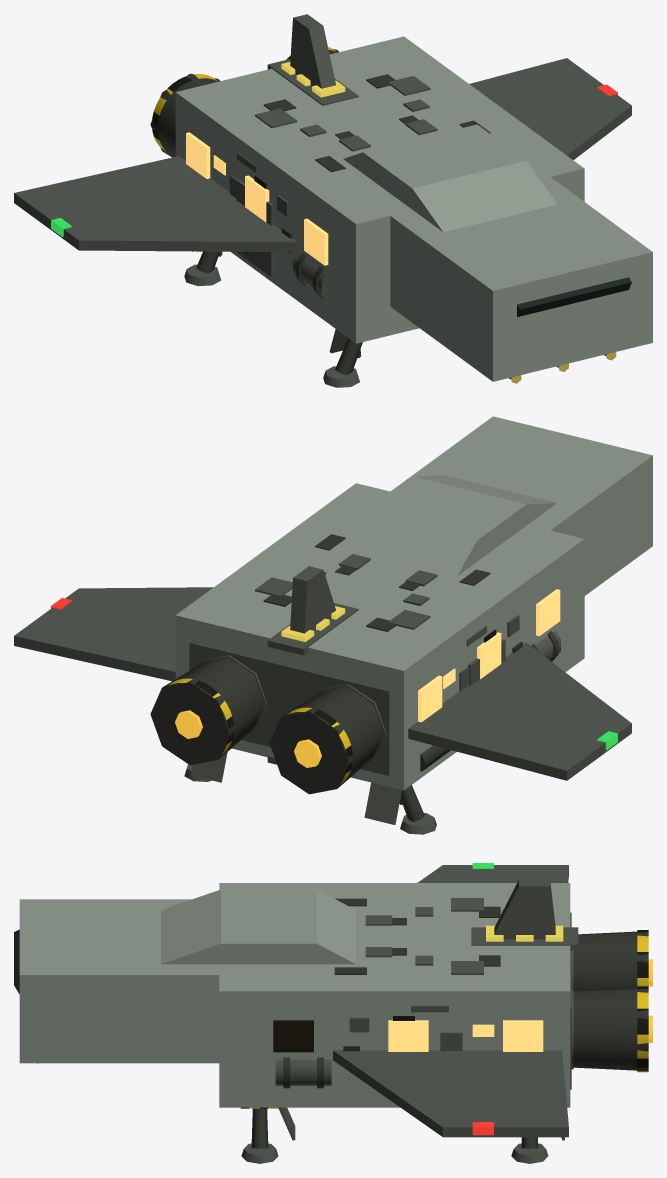
The model's file is shuttle-l.glb.
3 renders of one model, top to bottom at view 1: azimuth 30°, elevation 25°; view 2: azimuth 150°, elevation 25°; view 3: azimuth 270°, elevation 25°, orthographic. The views are drawn at different scales.
Parts seen in each view (by area): view 1: hullMain, hullNose, wingLeft, canopyFairing, wingRight, dorsalFin, cockpitGlass, engineHousing, gearFoot (×2), boardingDoor, iffPlinthDorsal, cabinWindow2L (+4 smaller); view 2: hullMain, hullNose, wingLeft, engineHousing (×2), canopyFairing, wingRight, engineBayExtension, dorsalFin, gearBayDoor (×2), engineGlow (×2), iffPlinthDorsal, cabinWindow2L (+2 smaller); view 3: hullMain, hullNose, wingRight, canopyFairing, engineHousing (×2), dorsalFin, wingLeft, cabinWindow2R, cabinWindow0R, cabinWindow1R, shuttleShipPropellantTankR, gearFoot (×2) (+4 smaller).
Boxes of the visible parts, bbox=[...] form: hullMain: bbox=[175, 36, 584, 343]; hullNose: bbox=[384, 171, 652, 381]; wingLeft: bbox=[14, 156, 297, 252]; canopyFairing: bbox=[343, 124, 557, 232]; wingRight: bbox=[469, 58, 631, 160]; dorsalFin: bbox=[290, 14, 335, 88]; cockpitGlass: bbox=[517, 277, 631, 316]; engineHousing: bbox=[150, 73, 220, 157]; gearFoot (×2): bbox=[184, 264, 359, 387]; boardingDoor: bbox=[236, 179, 274, 277]; iffPlinthDorsal: bbox=[267, 59, 358, 105]; cabinWindow2L: bbox=[304, 218, 328, 265]; hullMain: bbox=[175, 483, 584, 790]; hullNose: bbox=[382, 416, 652, 595]; wingLeft: bbox=[408, 642, 631, 780]; engineHousing (×2): bbox=[150, 657, 383, 794]; canopyFairing: bbox=[343, 475, 556, 576]; wingRight: bbox=[14, 587, 213, 681]; engineBayExtension: bbox=[189, 642, 389, 775]; dorsalFin: bbox=[290, 566, 335, 633]; gearBayDoor (×2): bbox=[191, 752, 401, 824]; engineGlow (×2): bbox=[175, 710, 321, 767]; iffPlinthDorsal: bbox=[267, 603, 358, 655]; cabinWindow2L: bbox=[536, 589, 560, 636]; hullMain: bbox=[219, 883, 570, 1107]; hullNose: bbox=[19, 899, 235, 1063]; wingRight: bbox=[333, 1050, 568, 1137]; canopyFairing: bbox=[161, 889, 355, 964]; engineHousing (×2): bbox=[573, 931, 648, 1070]; dorsalFin: bbox=[494, 879, 555, 939]; wingLeft: bbox=[417, 865, 568, 882]; cabinWindow2R: bbox=[273, 1020, 313, 1052]; cabinWindow0R: bbox=[503, 1020, 543, 1051]; cabinWindow1R: bbox=[388, 1020, 428, 1051]; shuttleShipPropellantTankR: bbox=[275, 1059, 331, 1085]; gearFoot (×2): bbox=[241, 1143, 548, 1163].
Bounding box in the file's own units: 4.62 × 1.82 × 4.74.
